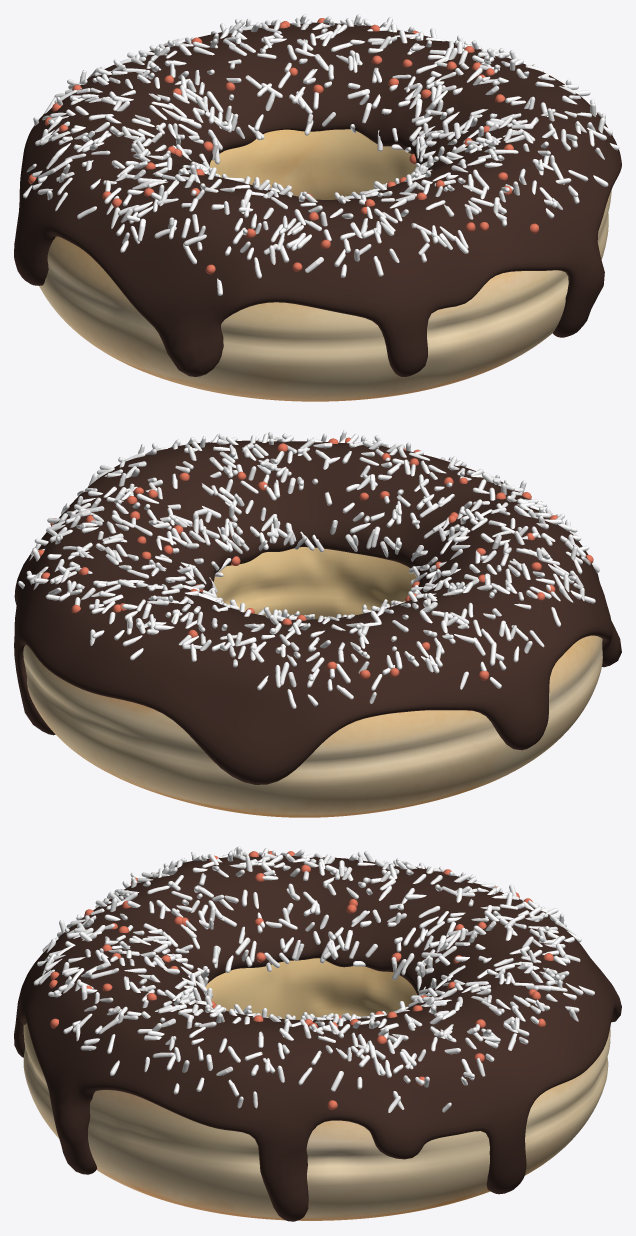
The model's file is donut.glb.
3 views of the same model, one above another, from view 1: azimuth 30°, elevation 25°; view 2: azimuth 150°, elevation 25°; view 3: azimuth 270°, elevation 25° (orthographic).
Visible parts, largest first — view 1: icing; view 2: icing; view 3: icing.
Boxes of the visible parts, x1,y1,x2,y2 form: icing: (14,22,621,401); icing: (14,440,621,817); icing: (14,855,621,1221).
Size of the model in its own units: 0.153 by 0.0648 by 0.1557.
4 materials, 1 textured.
